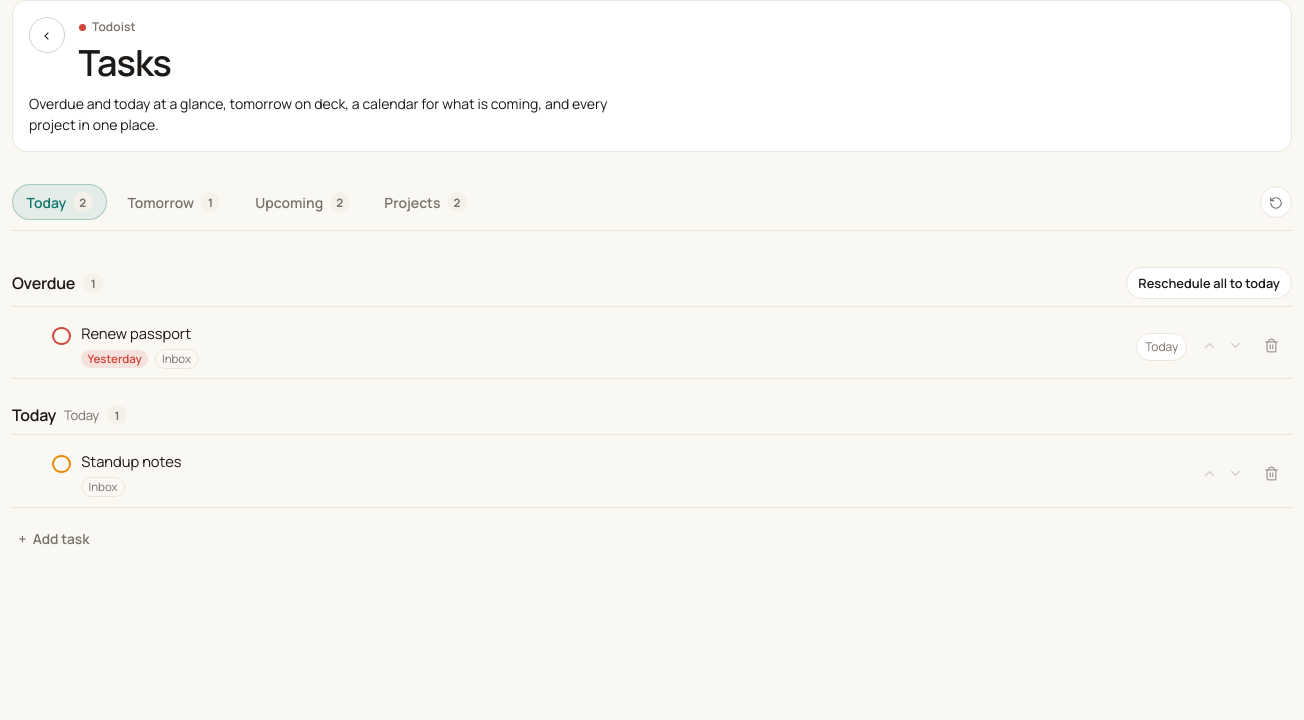
Test: TasksPage › renders a month calendar and lists the selected day on the Upcoming view
Expected: the text "Standup notes" is shown, [81,451,182,471]
Click the button "Upcoming 2" at (302, 202), box [241,184,364,220]
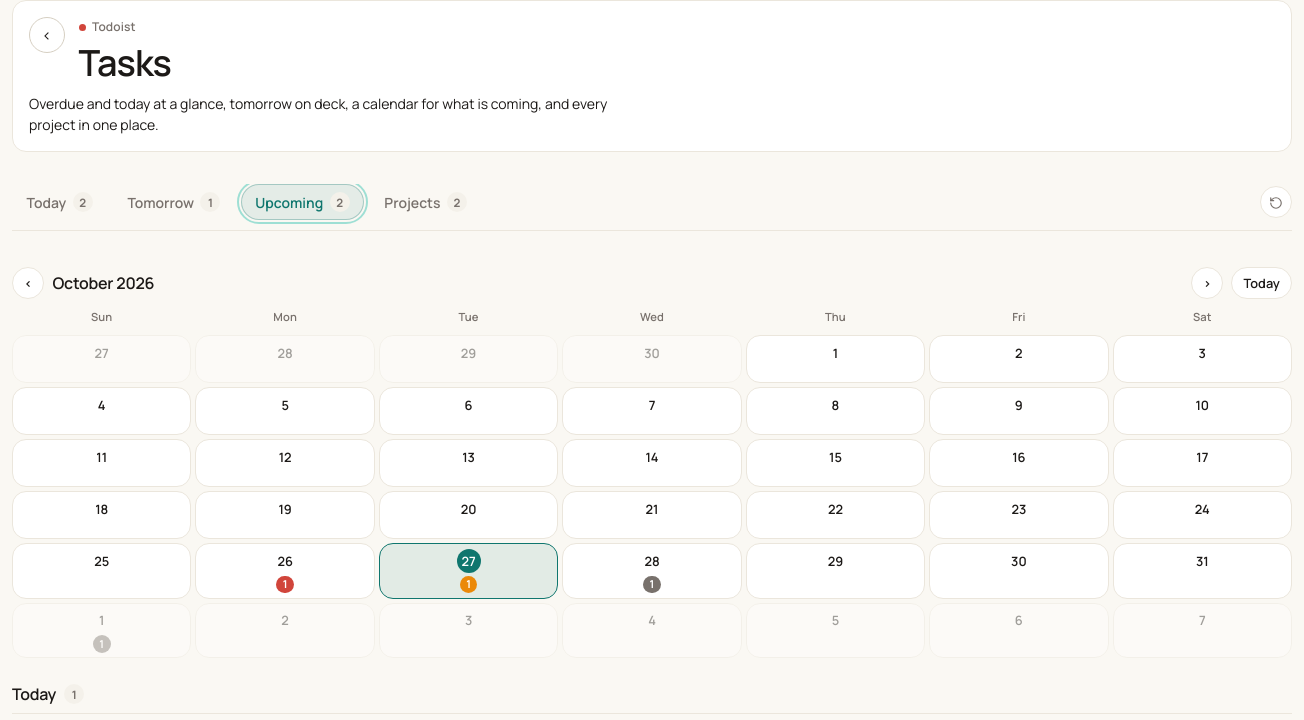
Result: the table is shown at [12,335,1292,658]
Click the cell named "Tomorrow" at (652, 571), box [562,543,742,599]
(page scrolled)
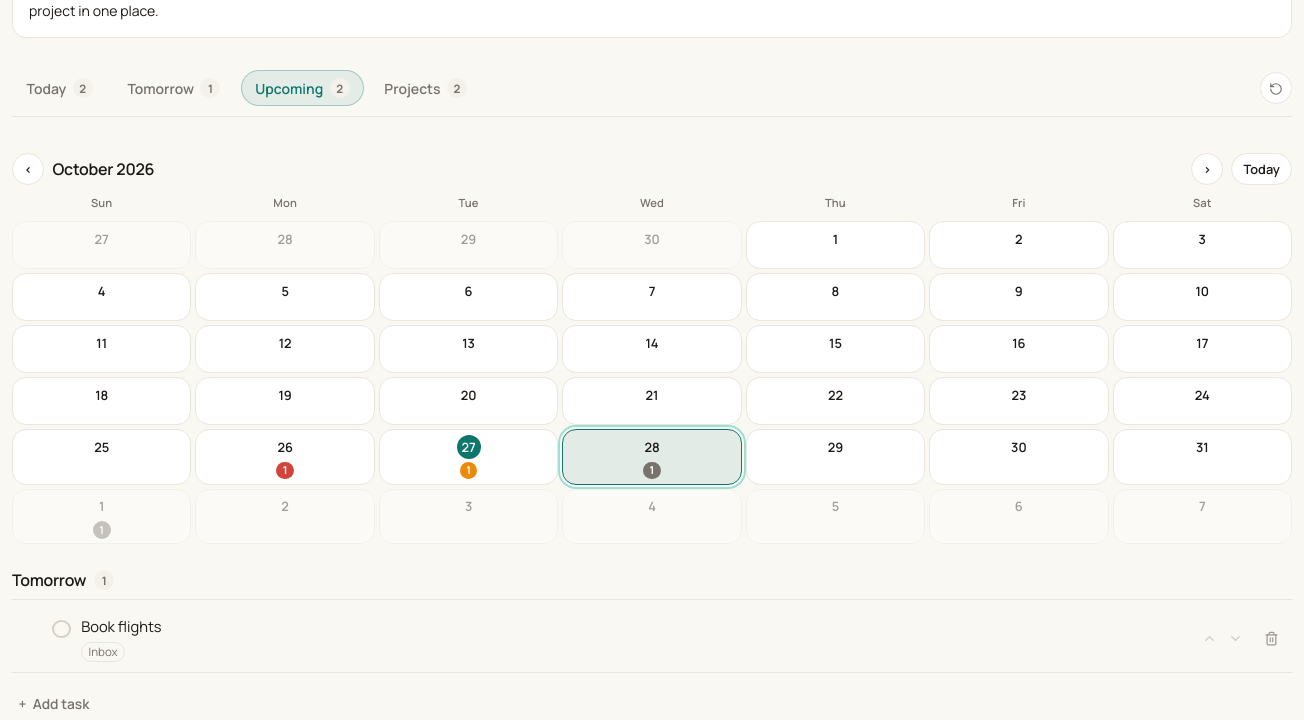
Result: the text "Book flights" is shown at [81,616,162,636]
